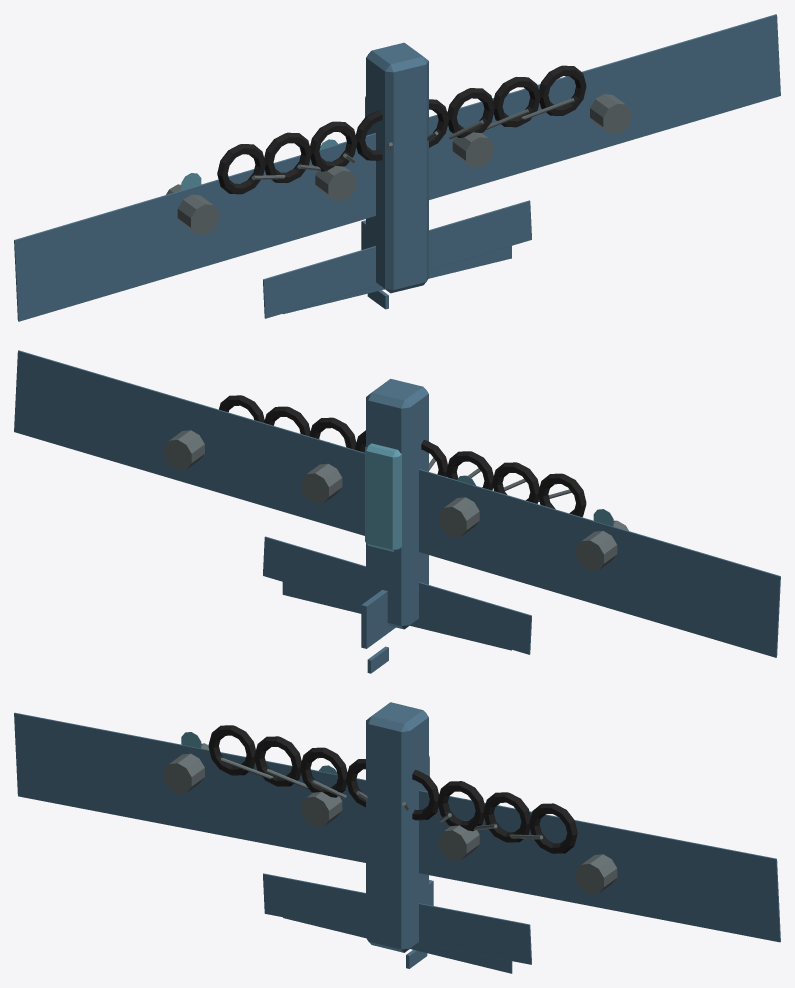
3 renders of one model, top to bottom at view 1: azimuth 30°, elevation 25°; view 2: azimuth 150°, elevation 25°; view 3: azimuth 330°, elevation 25°, orthographic.
Parts seen in each view (by area): view 1: main_wing.057, fuselage.052, horizontal_tail.057, turbofan.029, elevator.057, wheel_0.050, wheel_7.003, turbofan.032, wheel_1.050, wheel_2.003, wheel_6.003, wheel_5.003 (+4 smaller); view 2: main_wing.057, fuselage.052, horizontal_tail.057, aileron_L.057, aileron_R.057, canopy.052, elevator.057, turbofan.029, vertical_tail.057, turbofan.032, turbofan.030, turbofan.031 (+6 smaller); view 3: main_wing.057, fuselage.052, horizontal_tail.057, elevator.057, wheel_7.003, turbofan.029, wheel_0.050, turbofan.032, wheel_6.003, wheel_5.003, wheel_1.050, wheel_2.003 (+4 smaller).
Part boxes in pixels (x1,y1,x2,y2): main_wing.057: (14, 14, 780, 321); fuselage.052: (366, 42, 428, 293); horizontal_tail.057: (263, 200, 531, 318); turbofan.029: (166, 184, 218, 234); elevator.057: (283, 246, 511, 314); wheel_0.050: (217, 144, 265, 194); wheel_7.003: (539, 65, 586, 115); turbofan.032: (590, 94, 631, 134); wheel_1.050: (264, 132, 311, 182); wheel_2.003: (310, 121, 357, 171); wheel_6.003: (493, 77, 540, 127); wheel_5.003: (447, 88, 494, 137); main_wing.057: (14, 350, 780, 657); fuselage.052: (366, 378, 428, 629); horizontal_tail.057: (263, 536, 531, 654); aileron_L.057: (572, 535, 770, 607); aileron_R.057: (23, 401, 221, 473); canopy.052: (365, 443, 401, 552); elevator.057: (282, 573, 511, 650); turbofan.029: (576, 520, 628, 570); vertical_tail.057: (361, 590, 395, 648); turbofan.032: (163, 430, 204, 470); turbofan.030: (438, 497, 479, 537); turbofan.031: (301, 463, 342, 503); main_wing.057: (14, 712, 780, 942); fuselage.052: (366, 702, 428, 952); horizontal_tail.057: (263, 873, 531, 964); elevator.057: (283, 917, 512, 973); wheel_7.003: (529, 803, 577, 853); turbofan.029: (163, 743, 209, 793); wheel_0.050: (208, 725, 255, 775); turbofan.032: (576, 854, 617, 894); wheel_6.003: (483, 792, 530, 842); wheel_5.003: (437, 781, 484, 831); wheel_1.050: (254, 736, 301, 786); wheel_2.003: (300, 747, 347, 797).
Size of the model in its own units: 65.33 by 21.43 by 7.48.
